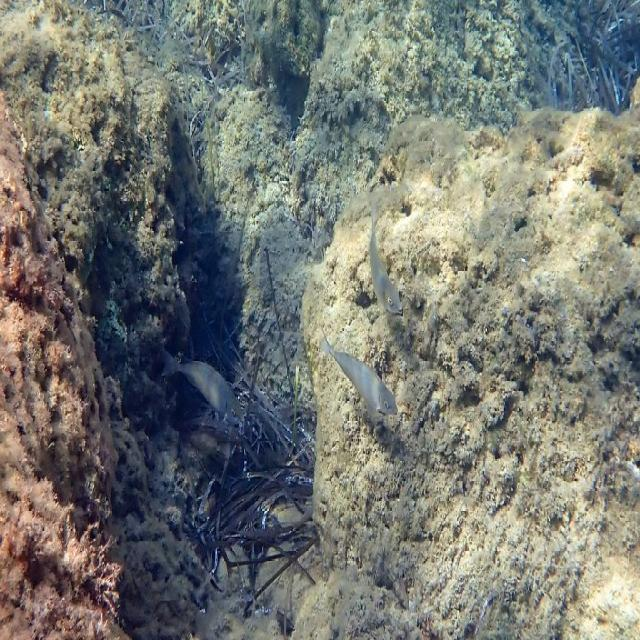Sokar Baligi: (316, 308, 402, 442), (356, 207, 414, 325)
